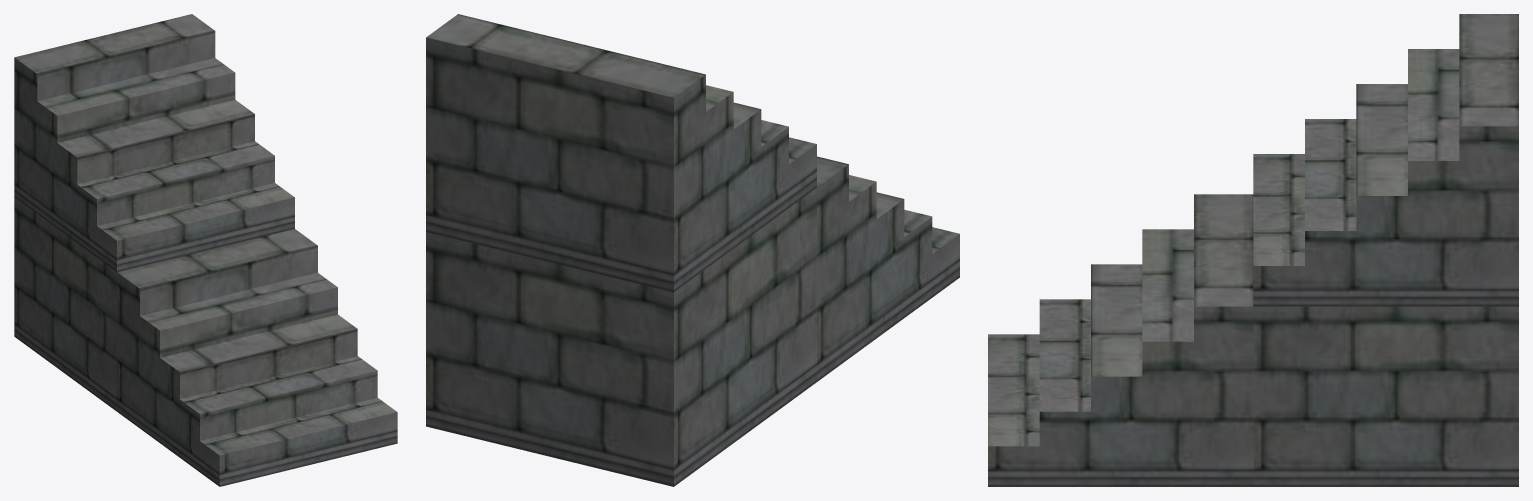
The model's file is sd_stairs_small_01.glb.
3 views of the same model, side by side, from view 1: azimuth 30°, elevation 25°; view 2: azimuth 150°, elevation 25°; view 3: azimuth 270°, elevation 25° (orthographic). The views are drawn at different scales.
Visible parts, largest first — view 1: stairs_small_01; view 2: stairs_small_01; view 3: stairs_small_01.
Part boxes in pixels (x1,y1,x2,y2): stairs_small_01: (14, 14, 397, 486); stairs_small_01: (426, 14, 959, 486); stairs_small_01: (988, 14, 1518, 486).
Size of the model in its own units: 2 by 3 by 4.
Materials: 1 (1 with a texture image).
